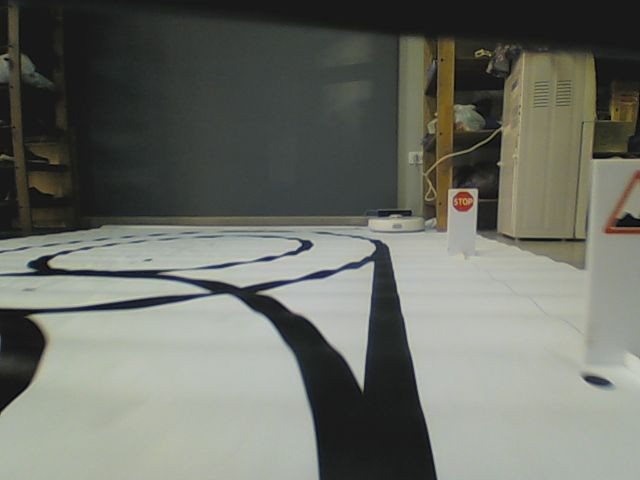Stop: (451, 190, 475, 212)
